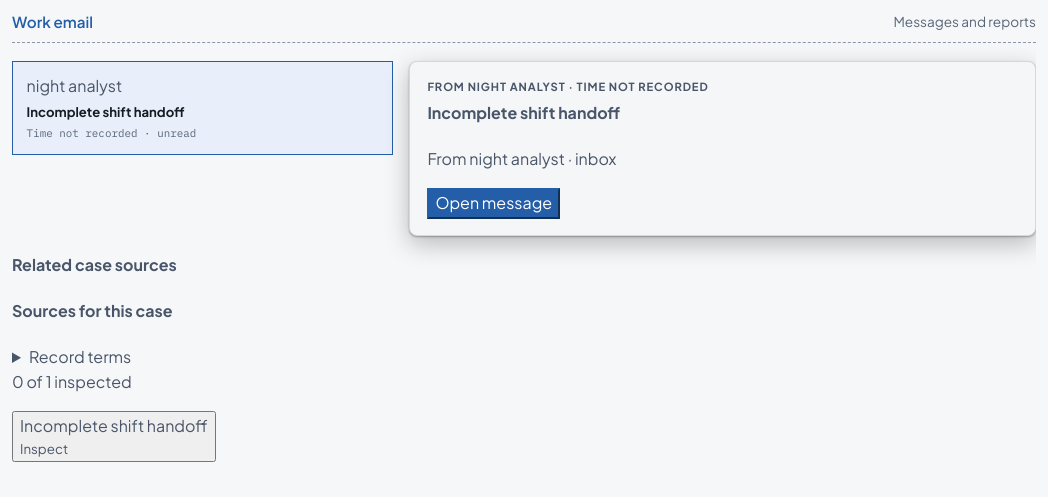
Test: work tools › opens an unread email canonically before rendering its body
The width and height of the screenshot is (1048, 497).
expect the text "Did not finish device inventory check" is not shown: met
Click the button "Open message".
click(494, 203)  # box [427,188,560,219]
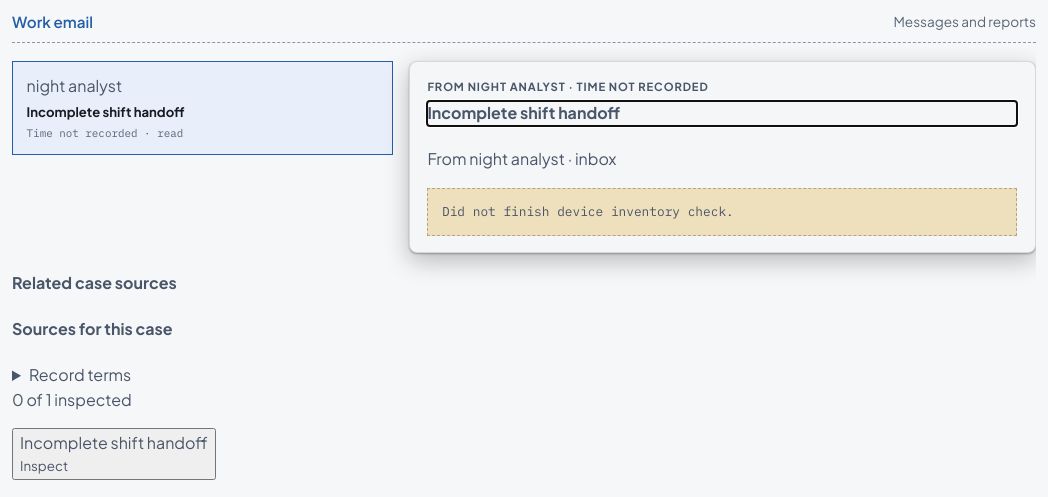
expect the text "Did not finish device inventory check." is shown: met, box [427,188,1017,236]
